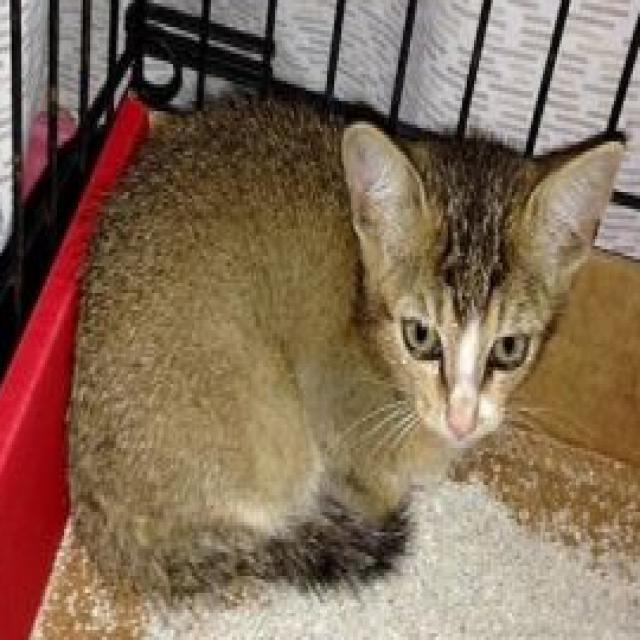Abyssinian: (62, 84, 629, 613)
